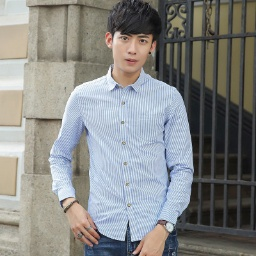face: (105, 2, 160, 76)
